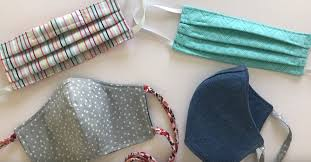cloth_mask: (1, 76, 180, 162), (183, 64, 311, 162)
